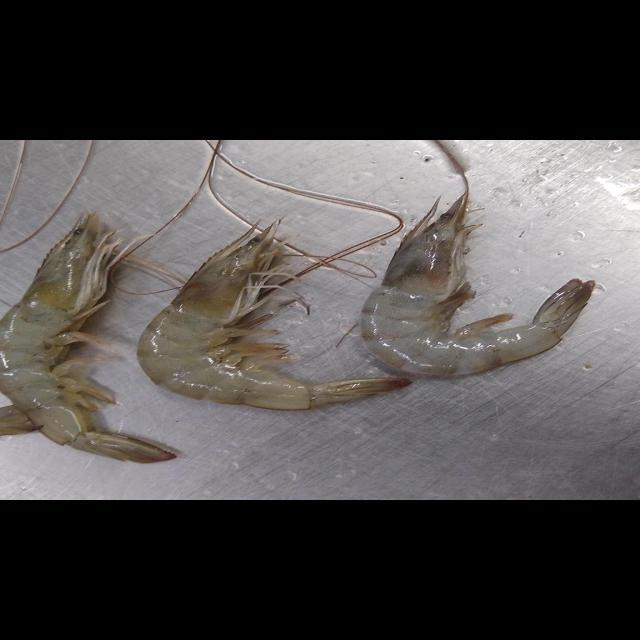shrimp: (138, 221, 409, 410), (0, 212, 176, 464), (360, 194, 593, 375)
